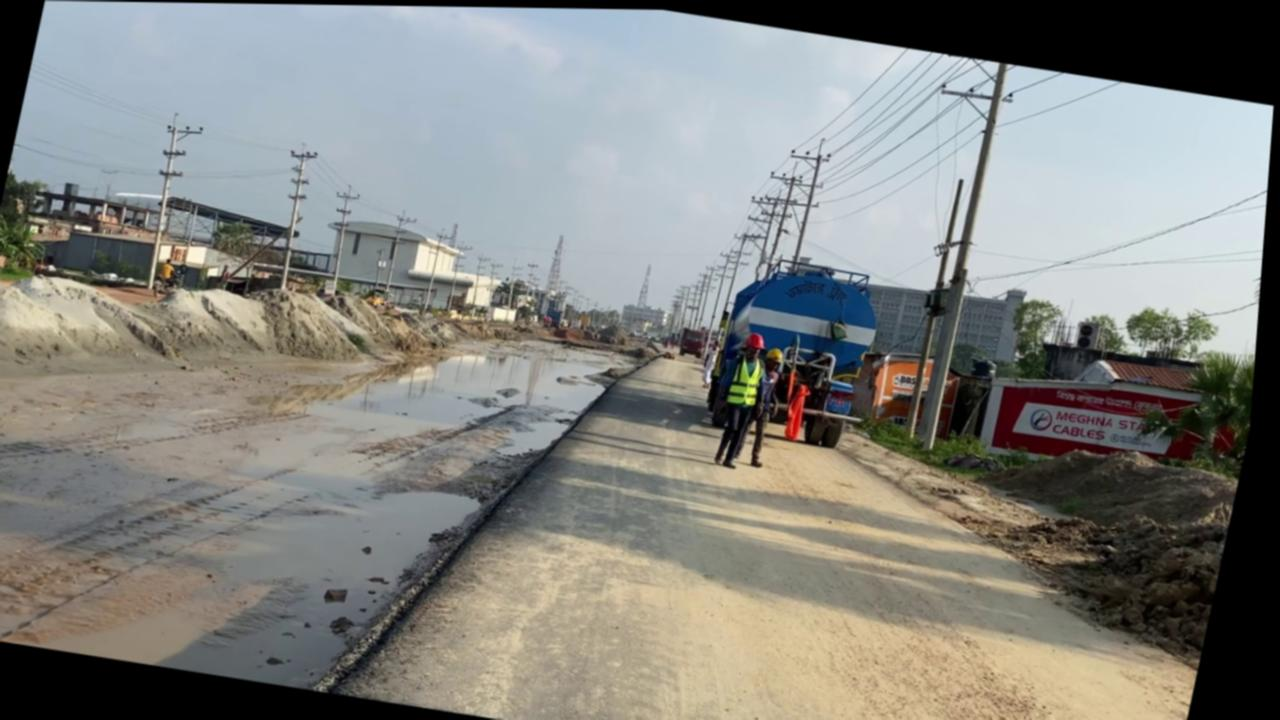Curb: (317, 301, 676, 720)
Obstacle: (768, 332, 881, 447)
Pole: (919, 58, 1015, 449), (906, 172, 971, 434)
Rickshaw: (324, 303, 1259, 720)
Sidewalk: (0, 244, 666, 720)
Stuck-water: (787, 379, 818, 439)
Traffic-sign: (1137, 332, 1261, 465)
Tree: (699, 245, 897, 449), (681, 323, 713, 356), (367, 285, 400, 310)
